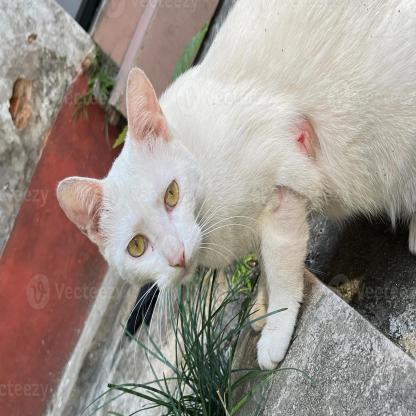cat: (55, 9, 416, 365)
injured: (265, 91, 329, 214)
